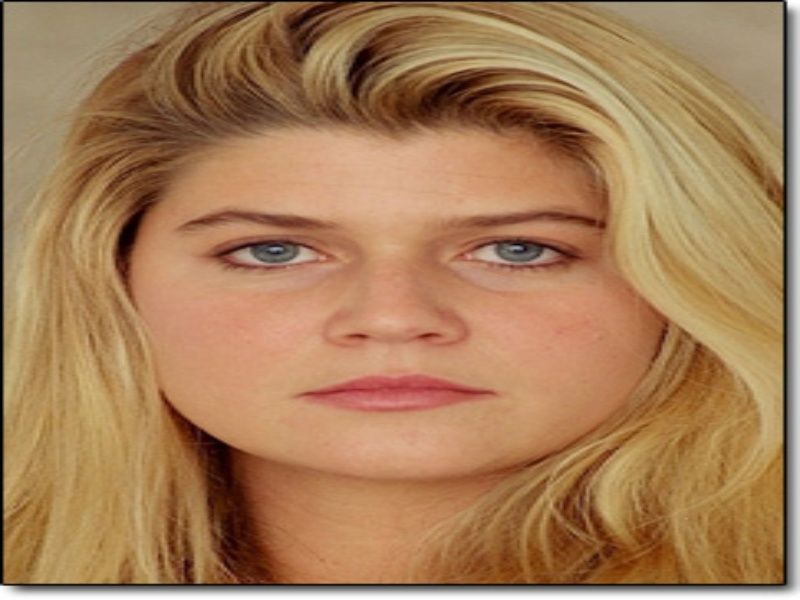face: (183, 201, 604, 422)
